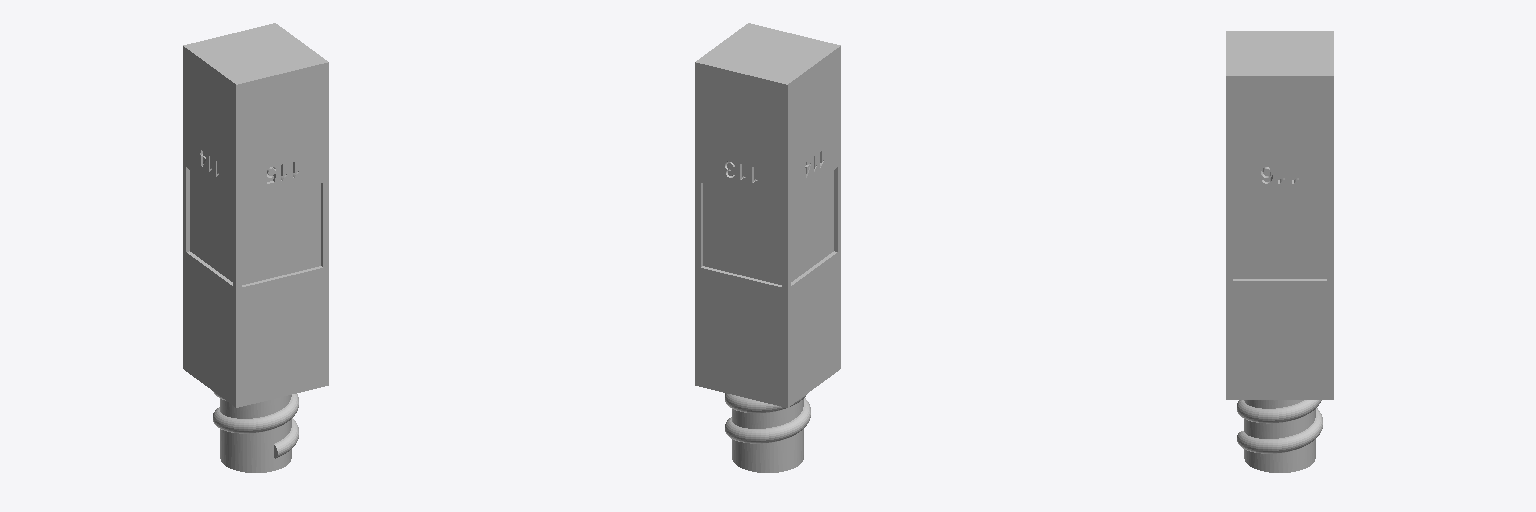
The model's file is desk_leg1.obj.
3 renders of one model, left to right at view 1: azimuth 30°, elevation 25°; view 2: azimuth 150°, elevation 25°; view 3: azimuth 270°, elevation 25°, orthographic.
Visible parts, largest first — view 1: desk_leg1, desk_leg1.002, desk_leg1.003; view 2: desk_leg1, desk_leg1.001, desk_leg1.003; view 3: desk_leg1, desk_leg1.004.
Boxes of the visible parts, box(x1,y1,x2,y2) form: desk_leg1: box(183, 23, 328, 472); desk_leg1.002: box(242, 183, 322, 286); desk_leg1.003: box(186, 167, 232, 285); desk_leg1: box(695, 23, 840, 472); desk_leg1.001: box(701, 183, 781, 286); desk_leg1.003: box(791, 167, 837, 285); desk_leg1: box(1226, 31, 1333, 472); desk_leg1.004: box(1233, 196, 1326, 280).
Size of the model in its own units: 0.03 by 0.125 by 0.03.